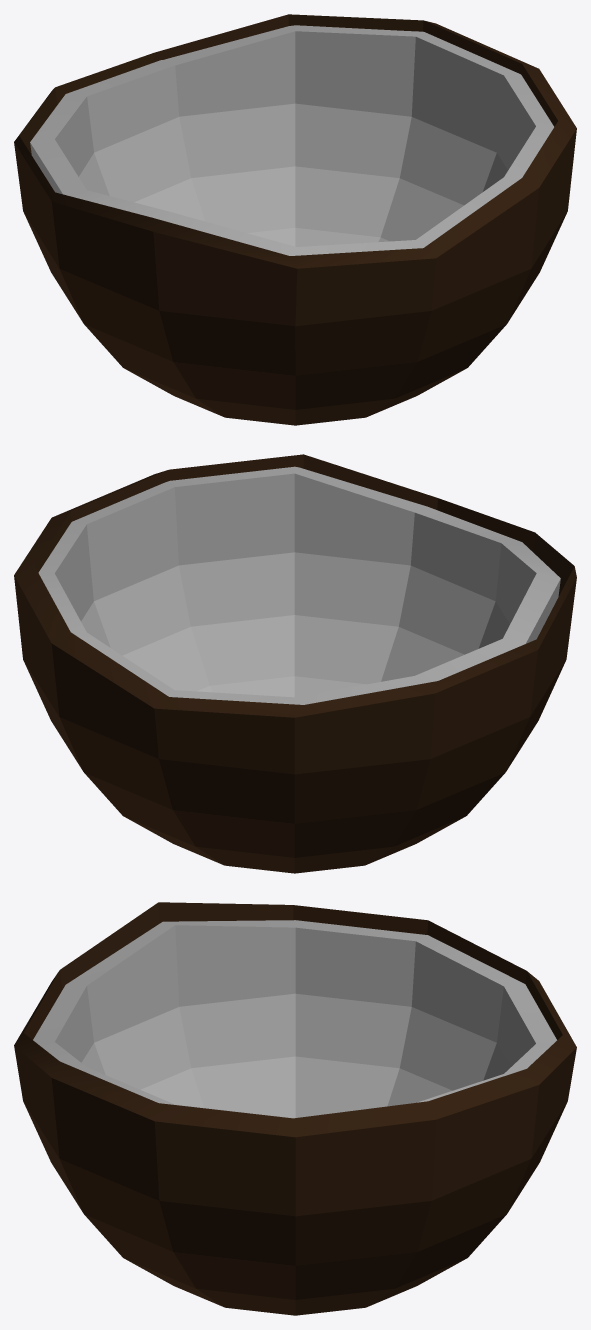
Rendered from coconut.fbx.
3 renders of one model, top to bottom at view 1: azimuth 30°, elevation 25°; view 2: azimuth 150°, elevation 25°; view 3: azimuth 270°, elevation 25°, orthographic.
Visible parts, largest first — view 1: pSphere4; view 2: pSphere4; view 3: pSphere4.
Part boxes in pixels (left/top/right/bottom): pSphere4: left=14, top=14, right=576, bottom=425; pSphere4: left=14, top=454, right=576, bottom=873; pSphere4: left=14, top=902, right=576, bottom=1315.
Bounding box in the file's own units: 2.67 × 1.49 × 2.67.
